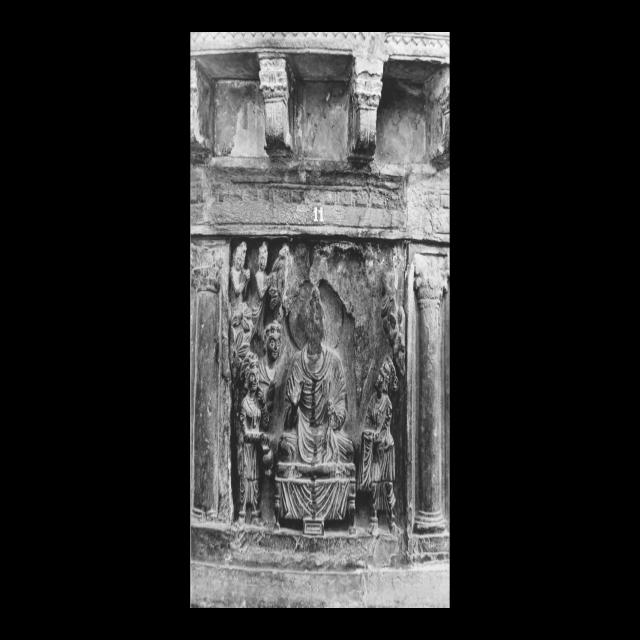buddha-sitting: (274, 281, 356, 524)
